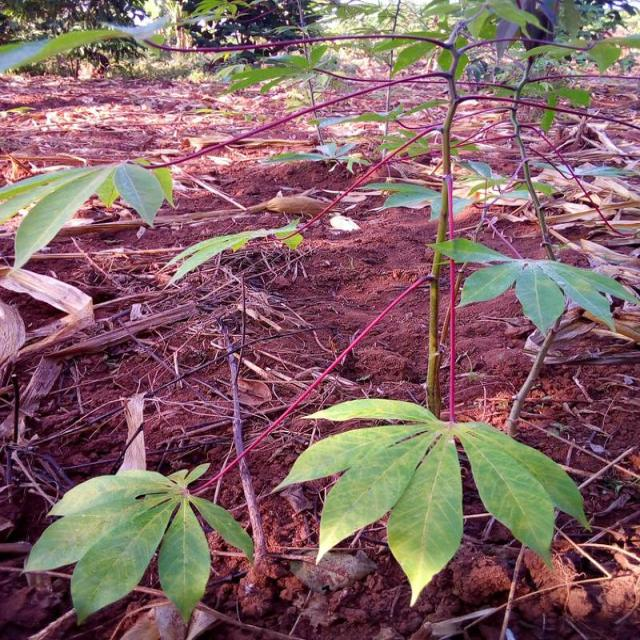cassava leaf: (271, 395, 591, 606), (22, 460, 254, 626), (426, 236, 637, 338), (2, 157, 174, 274)
